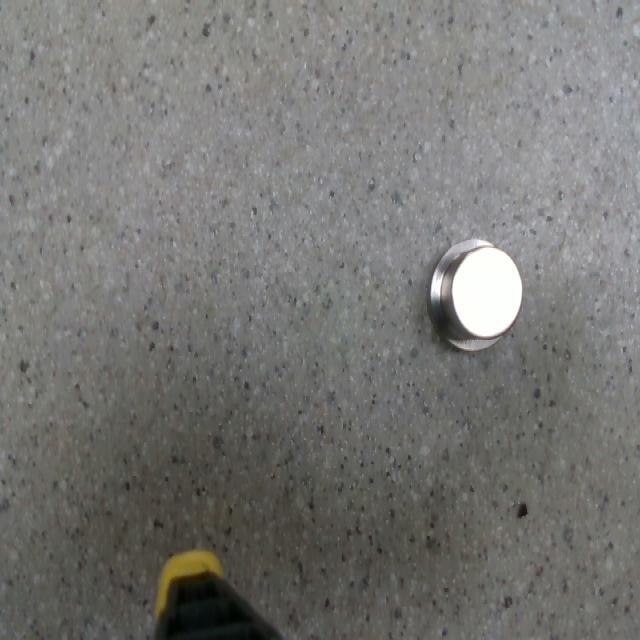sensor: (427, 240, 522, 350)
